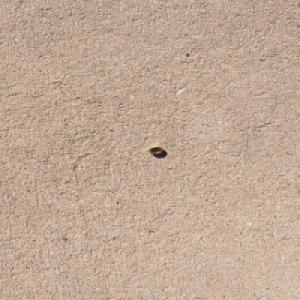Nut: (147, 145, 164, 155)
